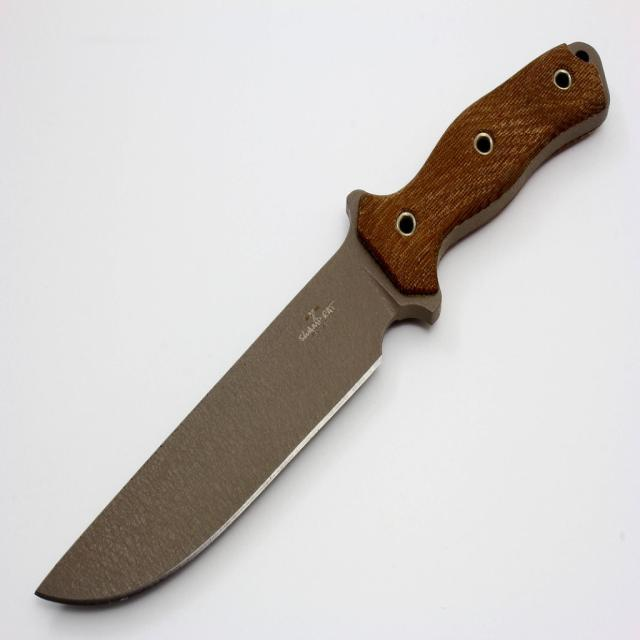Knife: (30, 43, 613, 603)
